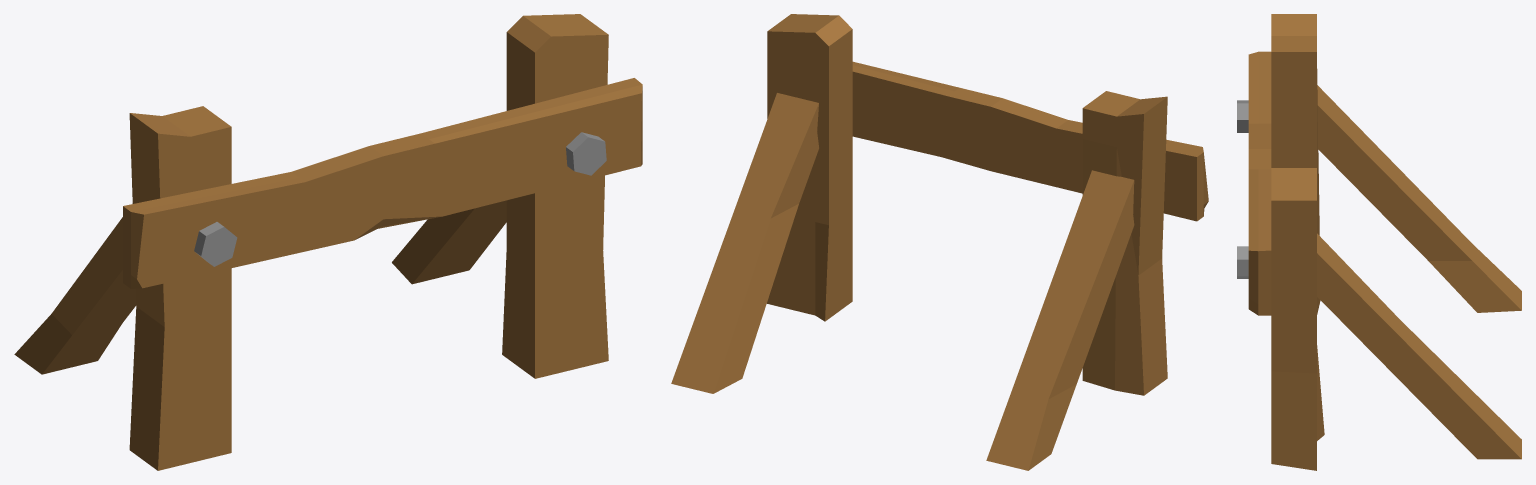
Rendered from Fencing.fbx.
3 renders of one model, left to right at view 1: azimuth 30°, elevation 25°; view 2: azimuth 150°, elevation 25°; view 3: azimuth 270°, elevation 25°, orthographic. The views are drawn at different scales.
Visible parts, largest first — view 1: Fencing; view 2: Fencing; view 3: Fencing.
Part boxes in pixels (x1,y1,x2,y2): Fencing: (14, 14, 642, 470); Fencing: (671, 14, 1208, 470); Fencing: (1237, 14, 1521, 470).
Bounding box in the file's own units: 203 × 121 × 128.
